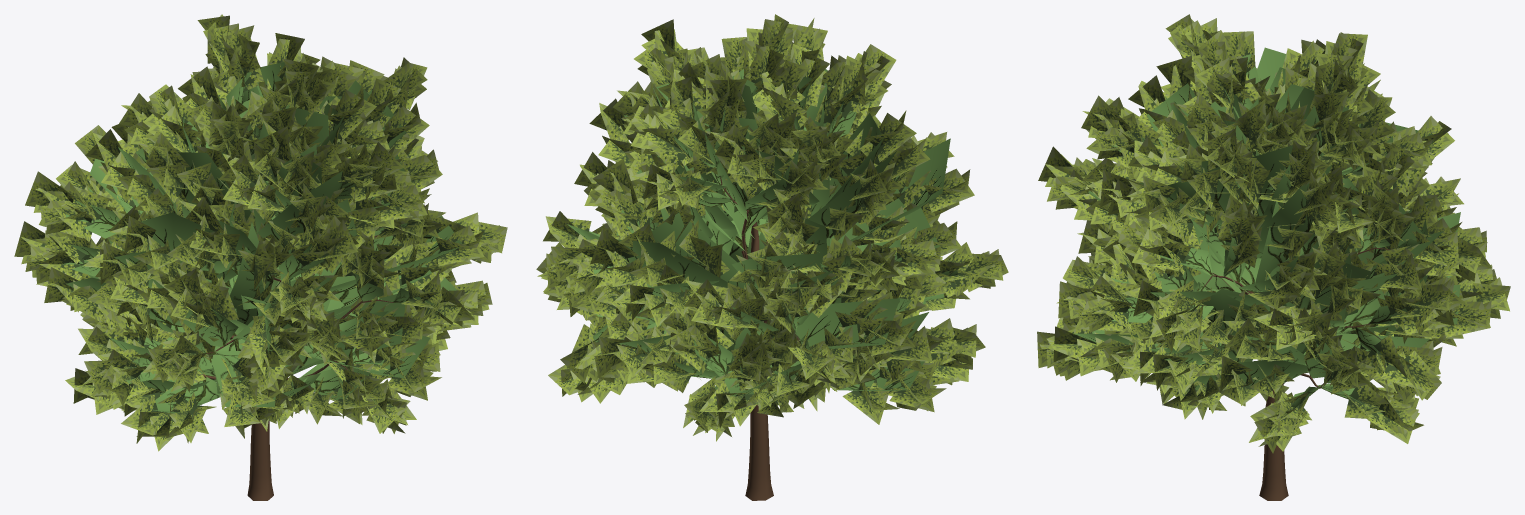
File: static.glb
3 views of the same model, side by side, from view 1: azimuth 30°, elevation 25°; view 2: azimuth 150°, elevation 25°; view 3: azimuth 270°, elevation 25° (orthographic).
Visible parts, largest first — view 1: tree; view 2: tree; view 3: tree.
Part boxes in pixels (box(x1,y1,x2,y2)): tree: box(14, 14, 507, 500); tree: box(536, 14, 1008, 500); tree: box(1037, 14, 1510, 500).
Bounding box in the file's own units: 7.65 × 8.54 × 7.9.
3 materials, 2 textured.
